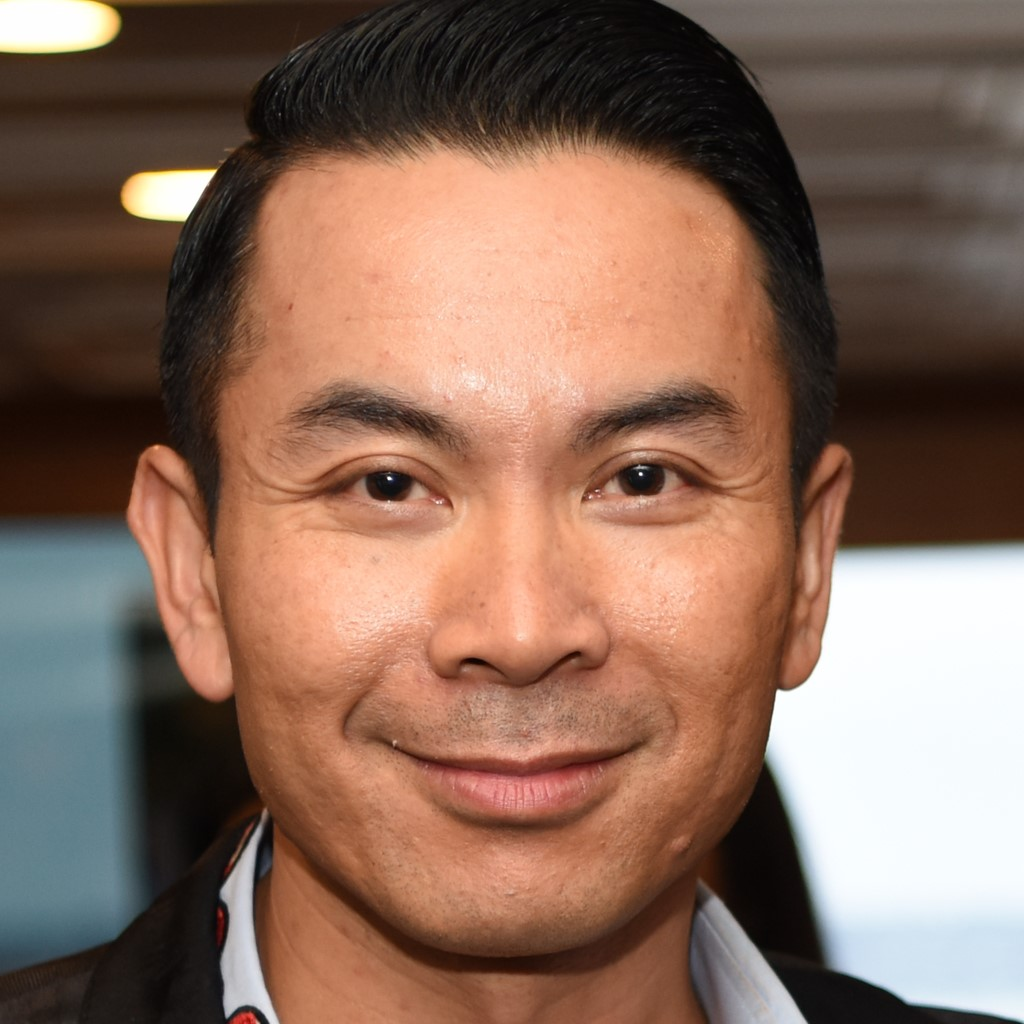sin_mascara: (171, 108, 822, 961)
